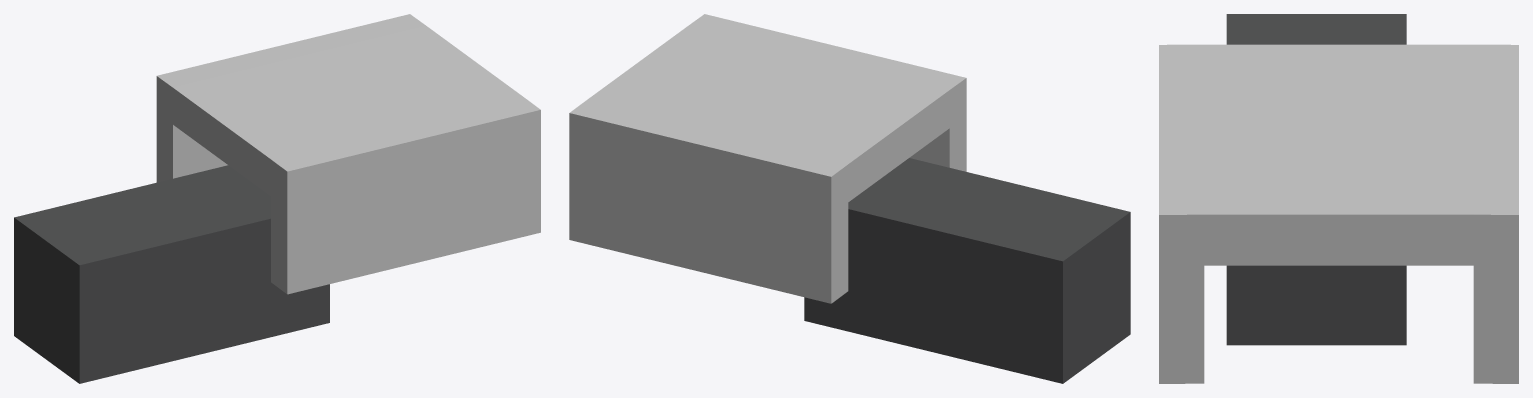
The model's file is shoulder.fbx.
3 views of the same model, side by side, from view 1: azimuth 30°, elevation 25°; view 2: azimuth 150°, elevation 25°; view 3: azimuth 270°, elevation 25° (orthographic). The views are drawn at different scales.
Parts seen in each view (by area): view 1: Cube.001; view 2: Cube.001; view 3: Cube.001.
Part boxes in pixels (x1,y1,x2,y2): Cube.001: (14, 14, 540, 383); Cube.001: (569, 14, 1130, 383); Cube.001: (1159, 14, 1518, 383).
Bounding box in the file's own units: 306 × 124 × 159.
1 material, 1 textured.
